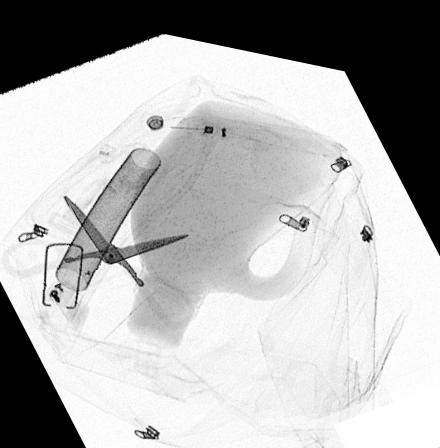Scissors: (0, 189, 196, 325)
